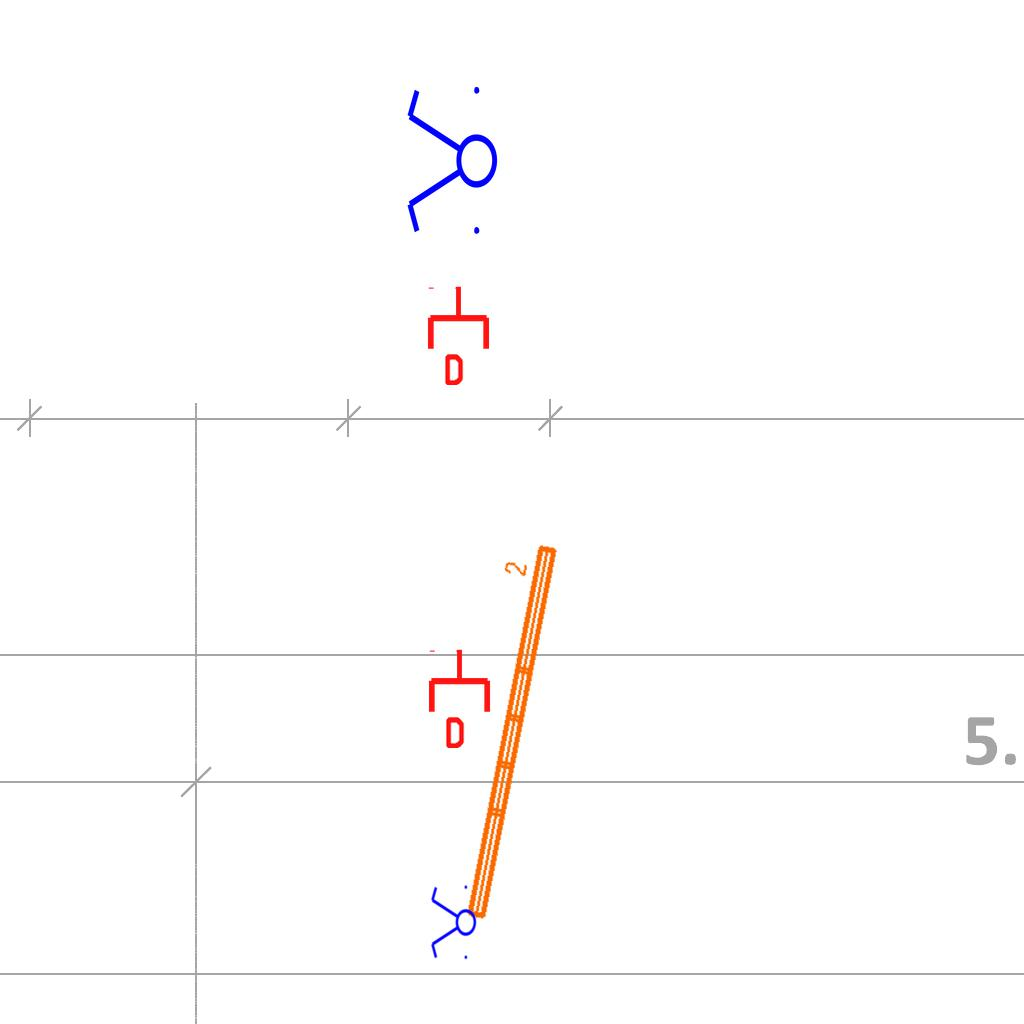Ambulanz_Pendelleuchte_LED: (435, 534, 564, 926)
Datenanschluss_einfach: (424, 285, 493, 385), (425, 648, 494, 748)
Serienschalter: (403, 78, 499, 246), (429, 881, 477, 965)
